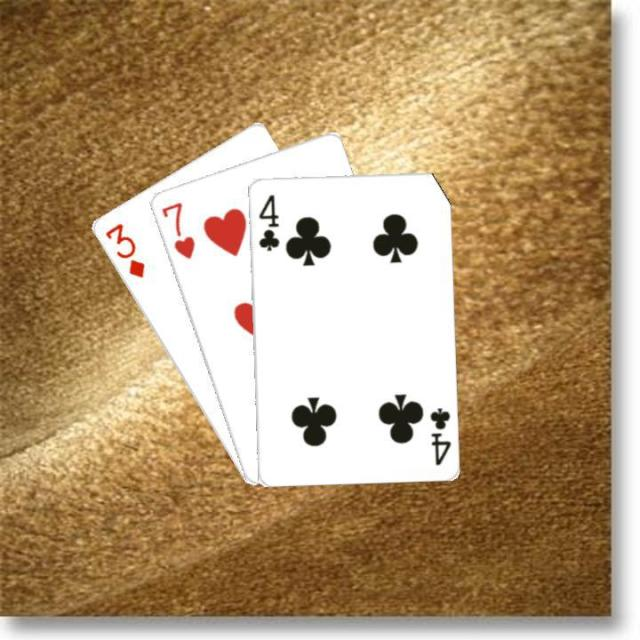3D: (100, 219, 146, 280)
4C: (425, 402, 452, 467), (254, 190, 281, 252)
7H: (156, 198, 196, 262)
